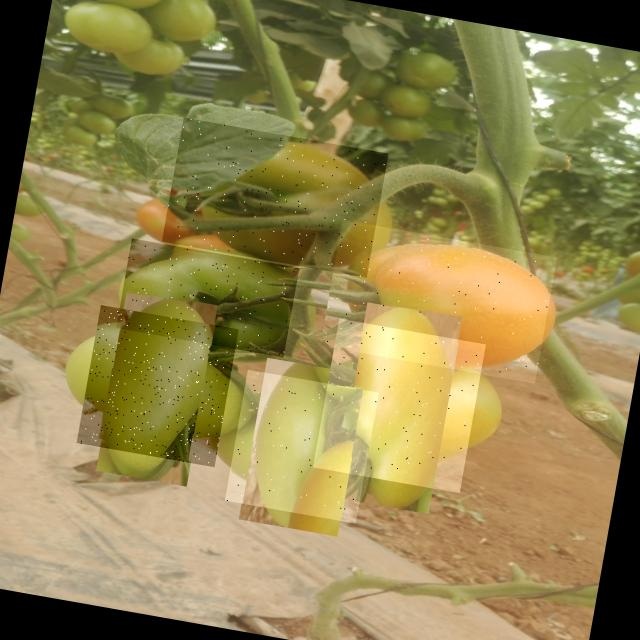Unripe Tomato: (319, 219, 556, 383), (160, 118, 388, 278), (312, 318, 486, 493), (76, 304, 238, 466), (224, 369, 378, 523), (115, 238, 298, 357)
